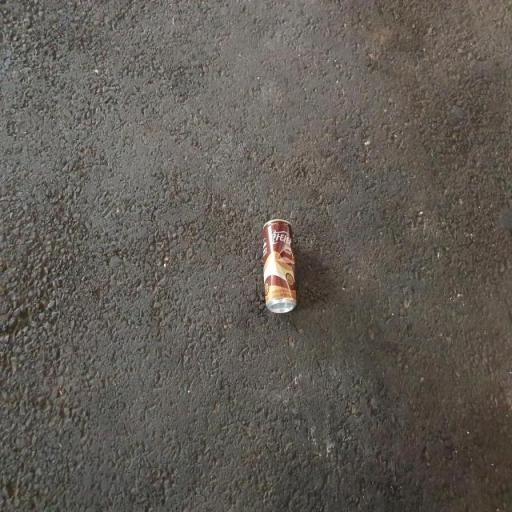metal: (227, 187, 323, 336)
